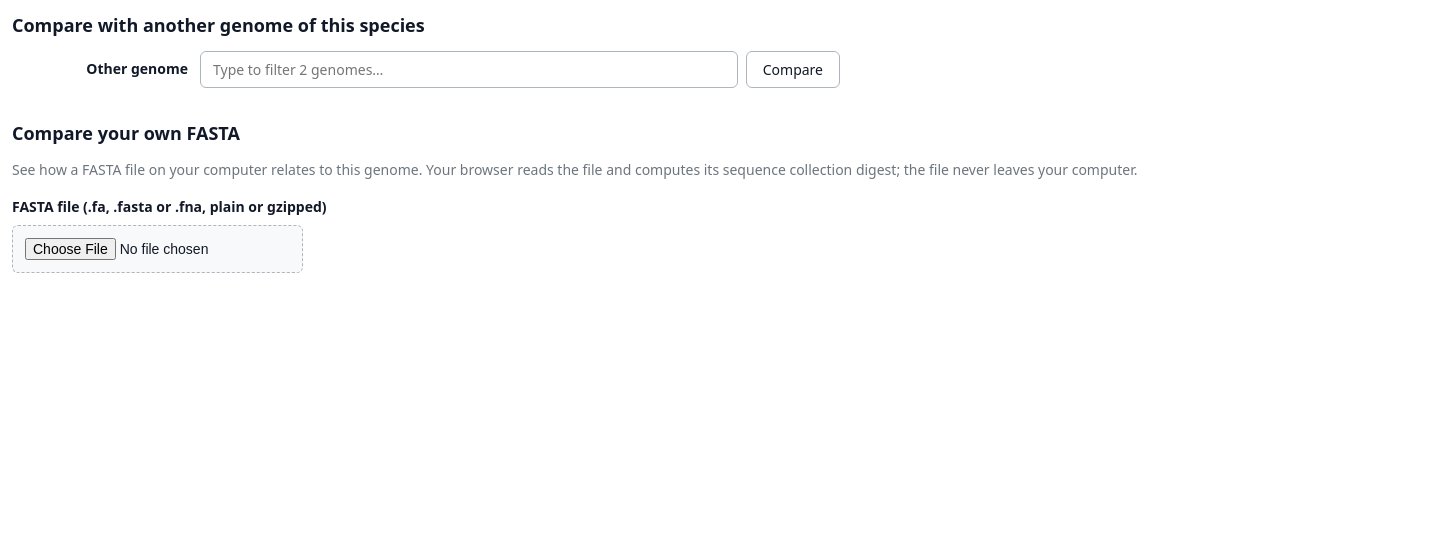
Test: ComparePanel › compares with another genome
In the field labelled "Other genome": x=469, y=70 [200, 51, 738, 88], type "rCRSd"
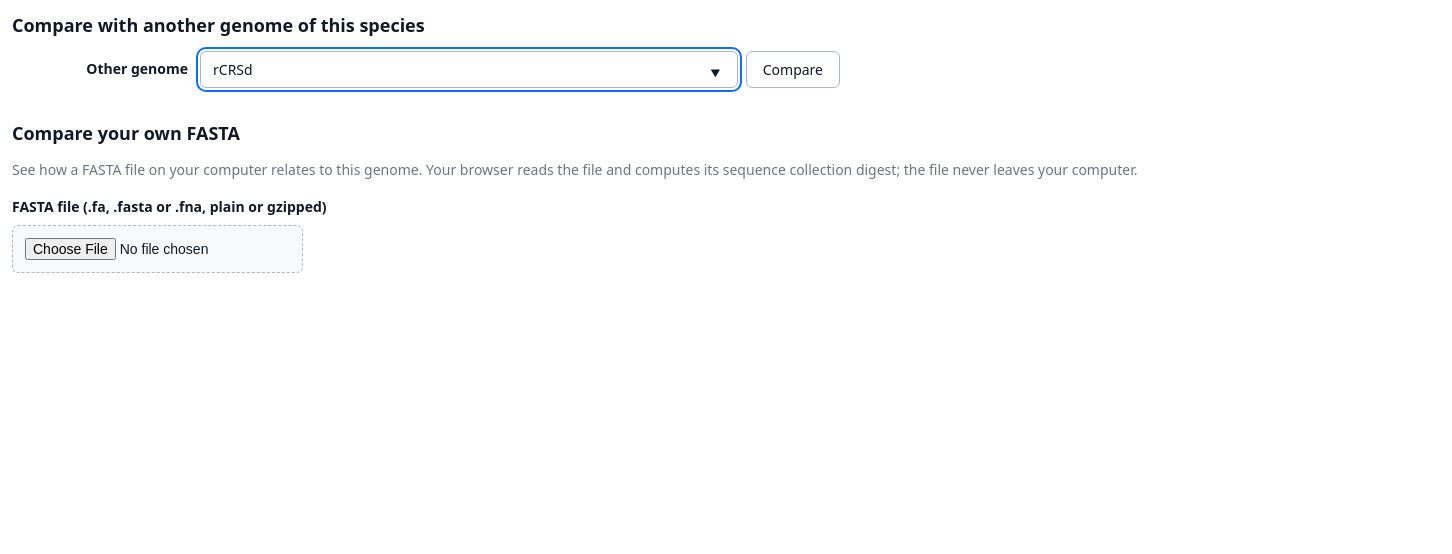
In the field labelled "Other genome": x=469, y=70 [200, 51, 738, 88], type " · GenBank"
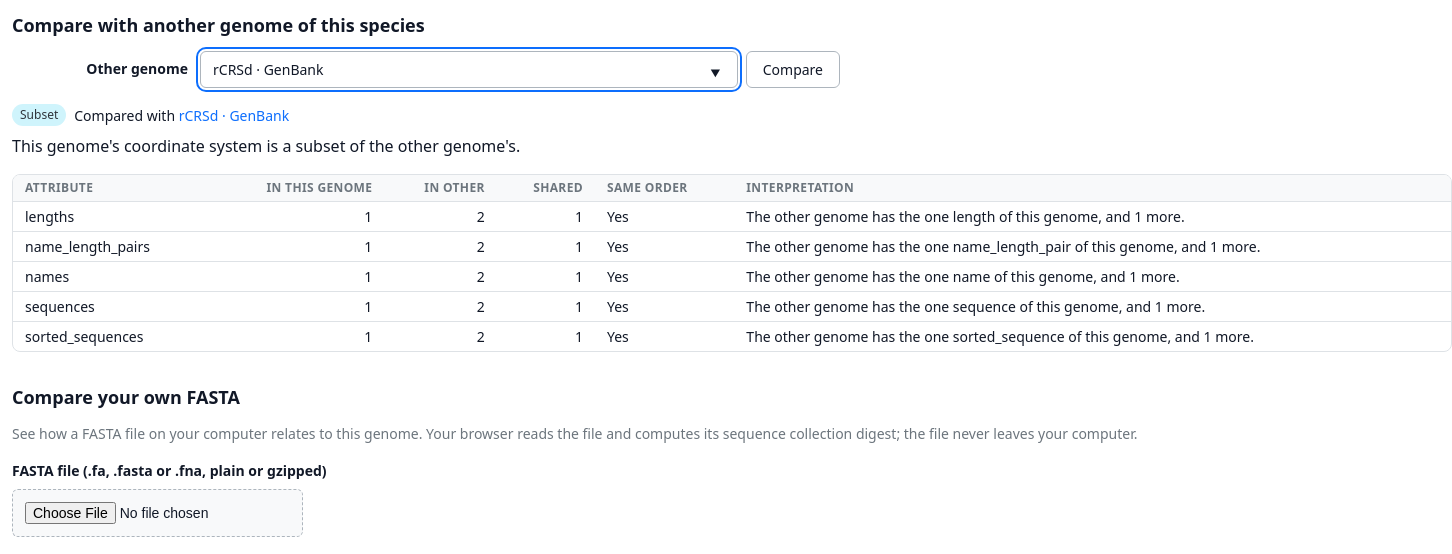
expect the text "This genome's coordinate system is a subset of the other genome's." is shown: met, box [12, 135, 520, 157]
